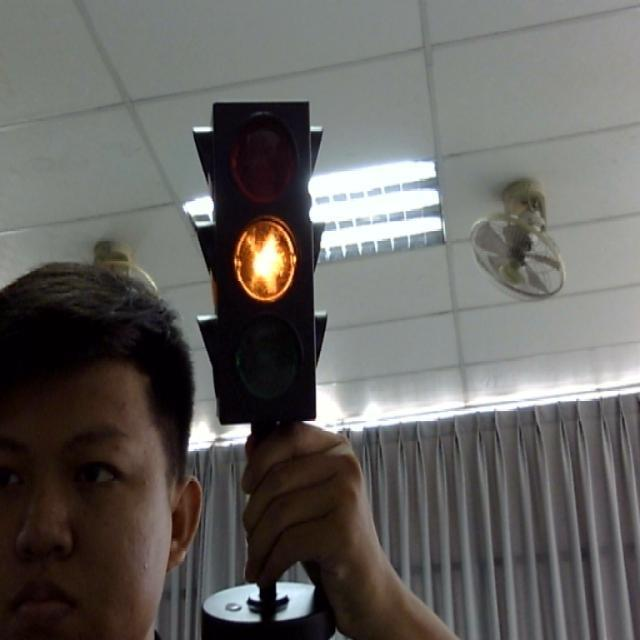yellow_light: (196, 84, 336, 422)
